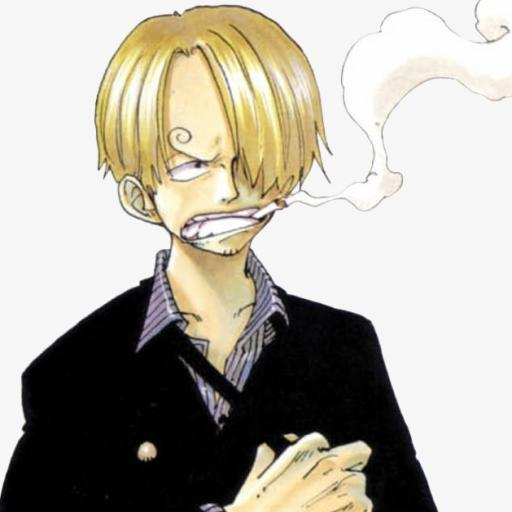sanji: (15, 12, 442, 512)
